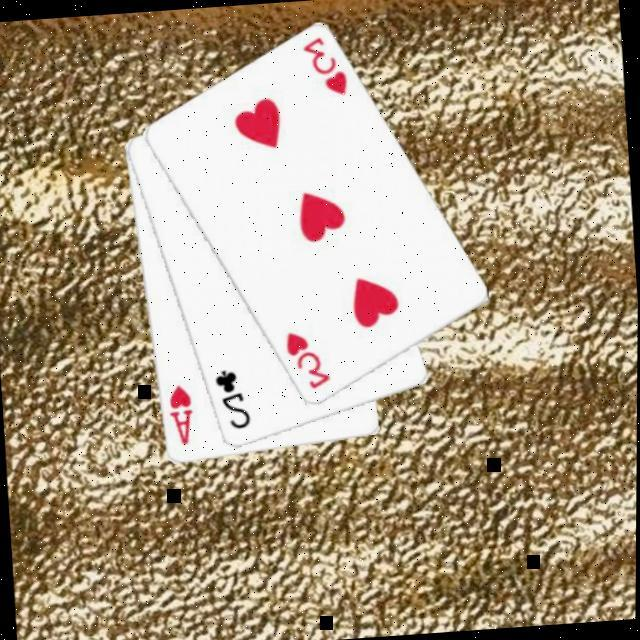2C: (209, 366, 254, 436)
3H: (280, 328, 334, 396), (297, 34, 349, 104)
AH: (162, 383, 198, 451)
